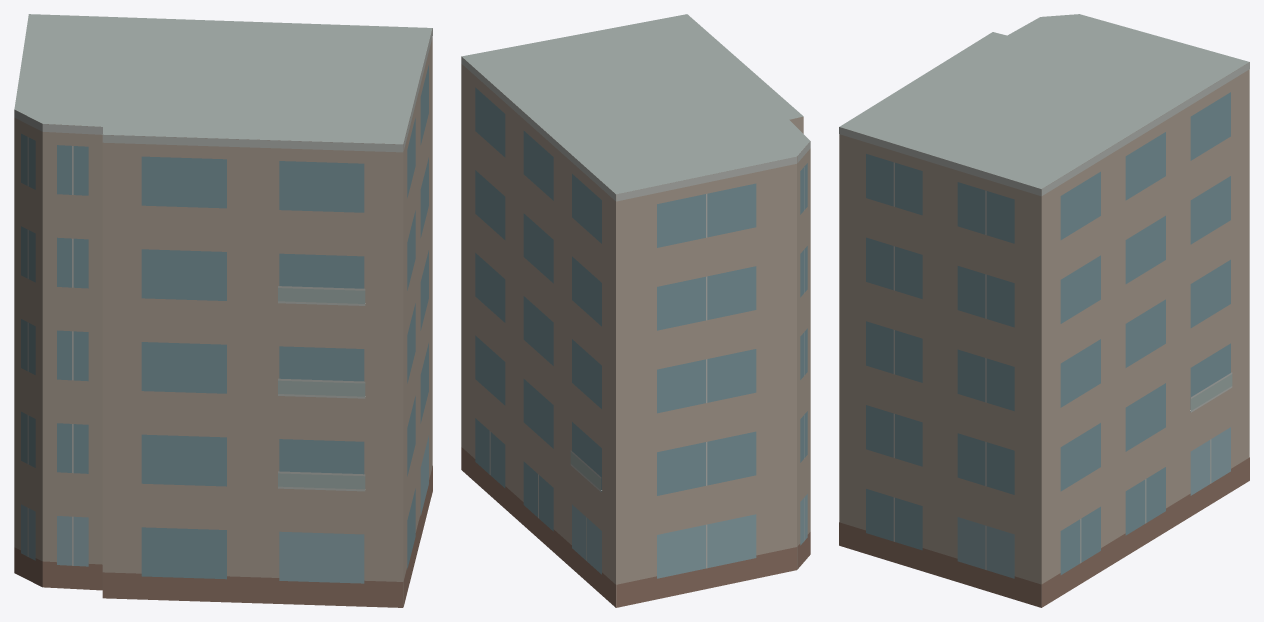
File: survey-upis-32844545.glb
3 views of the same model, side by side, from view 1: azimuth 30°, elevation 25°; view 2: azimuth 150°, elevation 25°; view 3: azimuth 270°, elevation 25° (orthographic). The views are drawn at different scales.
Parts seen in each view (by area): view 1: survey-upis-32844545.tmp; view 2: survey-upis-32844545.tmp; view 3: survey-upis-32844545.tmp.
Part boxes in pixels (x1=…): survey-upis-32844545.tmp: x1=14, y1=14, x2=432, y2=607; survey-upis-32844545.tmp: x1=461, y1=14, x2=810, y2=607; survey-upis-32844545.tmp: x1=839, y1=14, x2=1249, y2=607.
Size of the model in its own units: 12.66 by 14.1 by 12.54.
